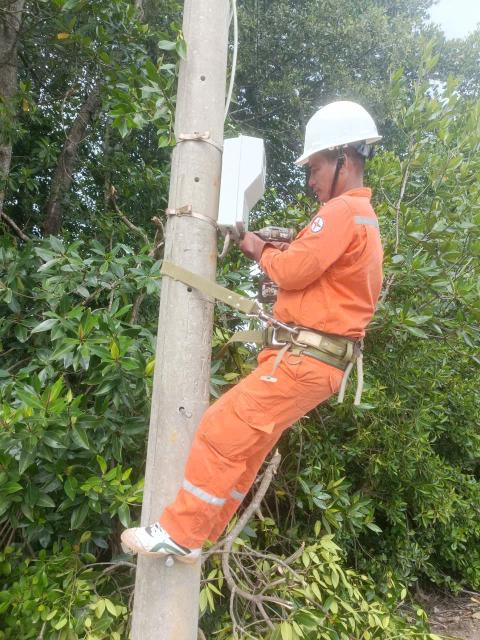gloves: (229, 222, 287, 281), (250, 210, 296, 261)
harness: (228, 292, 382, 384)
helmet: (286, 98, 389, 169)
shoes: (122, 518, 207, 570)
